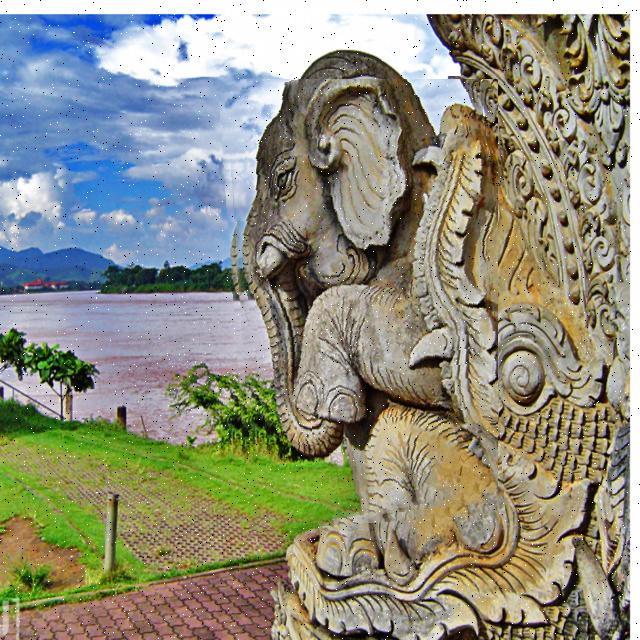elephant: (225, 79, 498, 527)
